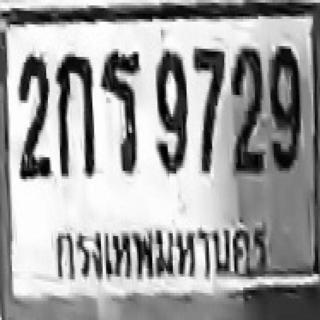A01: (56, 52, 93, 176)
A35: (99, 47, 139, 172)
N02: (231, 46, 264, 174), (17, 53, 50, 178)
N07: (192, 46, 224, 174)
N09: (154, 49, 186, 174), (269, 45, 301, 169)
P04: (47, 220, 276, 279)
